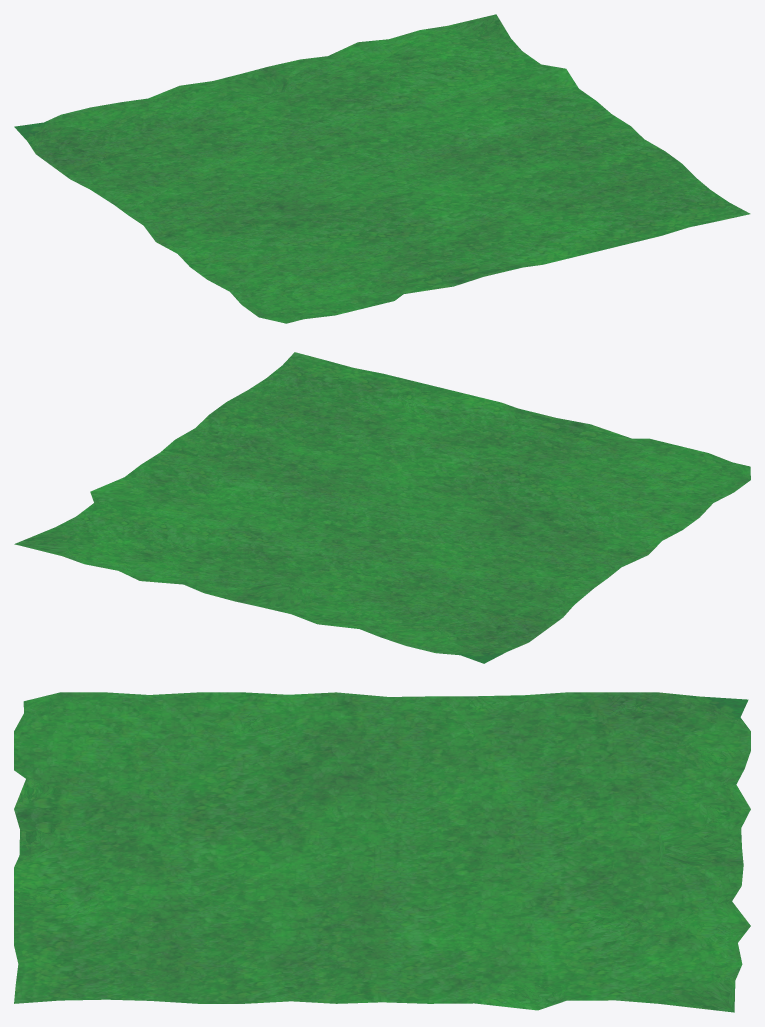
The model's file is field.obj.
3 views of the same model, one above another, from view 1: azimuth 30°, elevation 25°; view 2: azimuth 150°, elevation 25°; view 3: azimuth 270°, elevation 25° (orthographic). The views are drawn at different scales.
Parts seen in each view (by area): view 1: 平面; view 2: 平面; view 3: 平面.
Part boxes in pixels (x1,y1,x2,y2): 平面: [14, 14, 750, 323]; 平面: [14, 352, 750, 663]; 平面: [14, 692, 750, 1012].
Size of the model in its own units: 2057 by 1.48 by 2000.
Materials: 1 (1 with a texture image).
